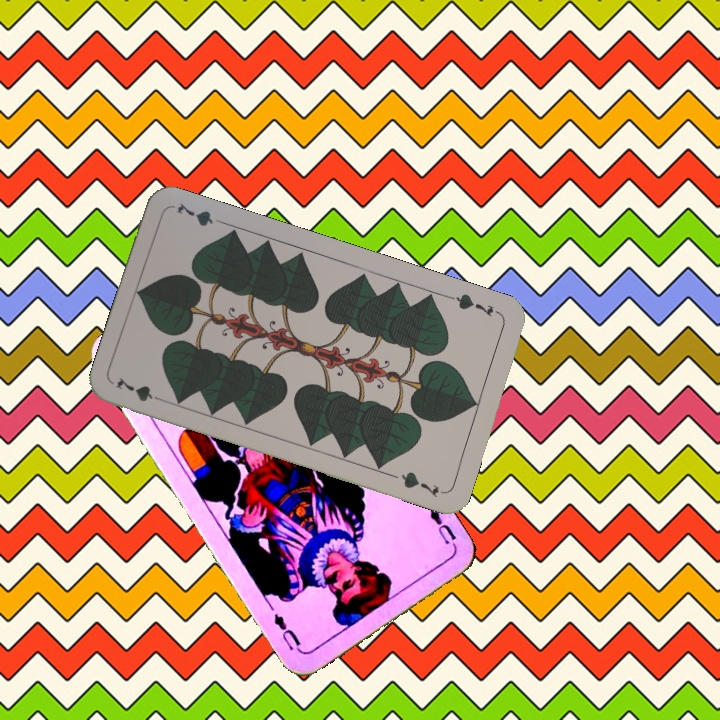EU: (422, 498, 460, 552)
G7: (111, 372, 169, 405), (445, 289, 503, 320)
